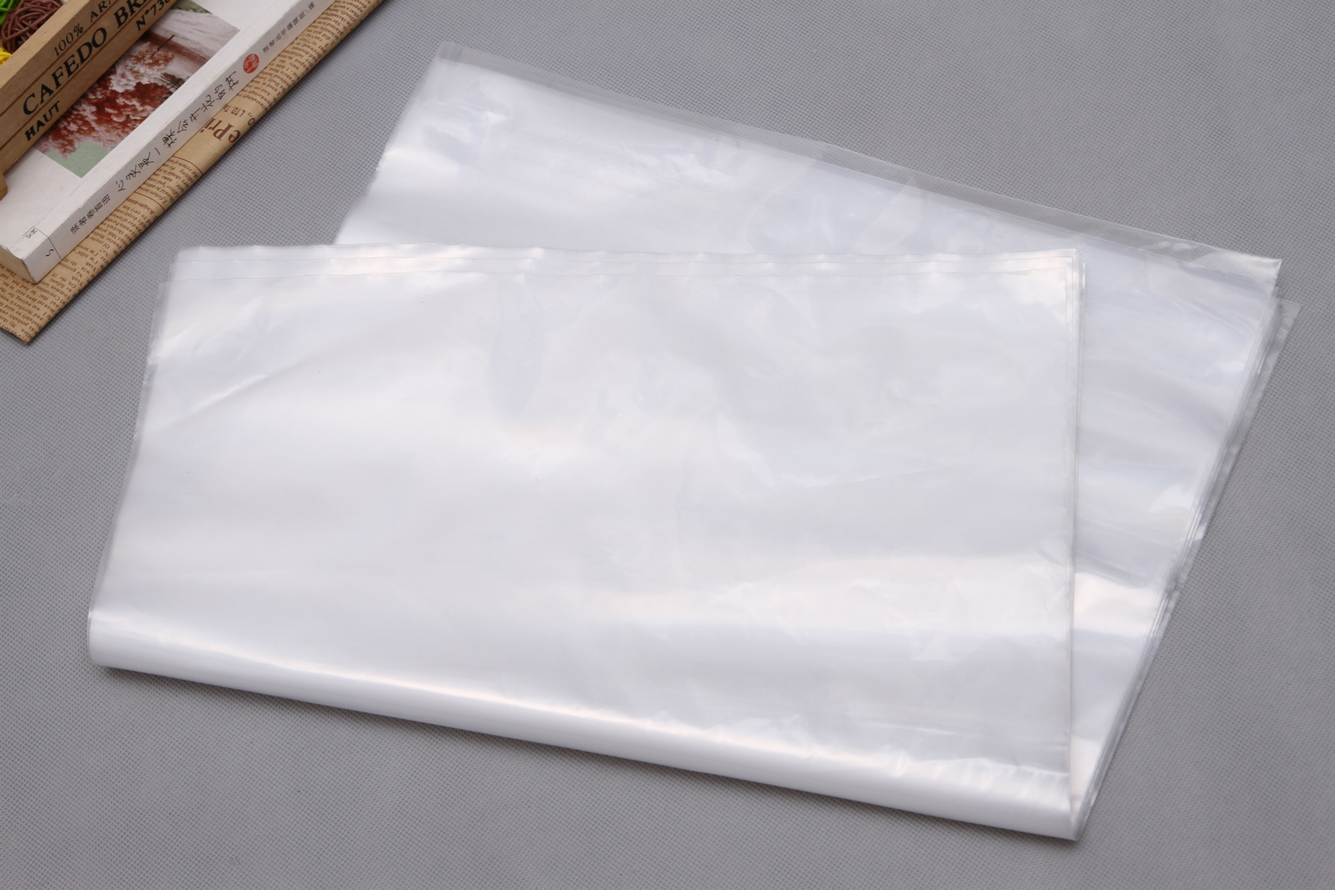塑料袋: (90, 47, 1286, 838)
